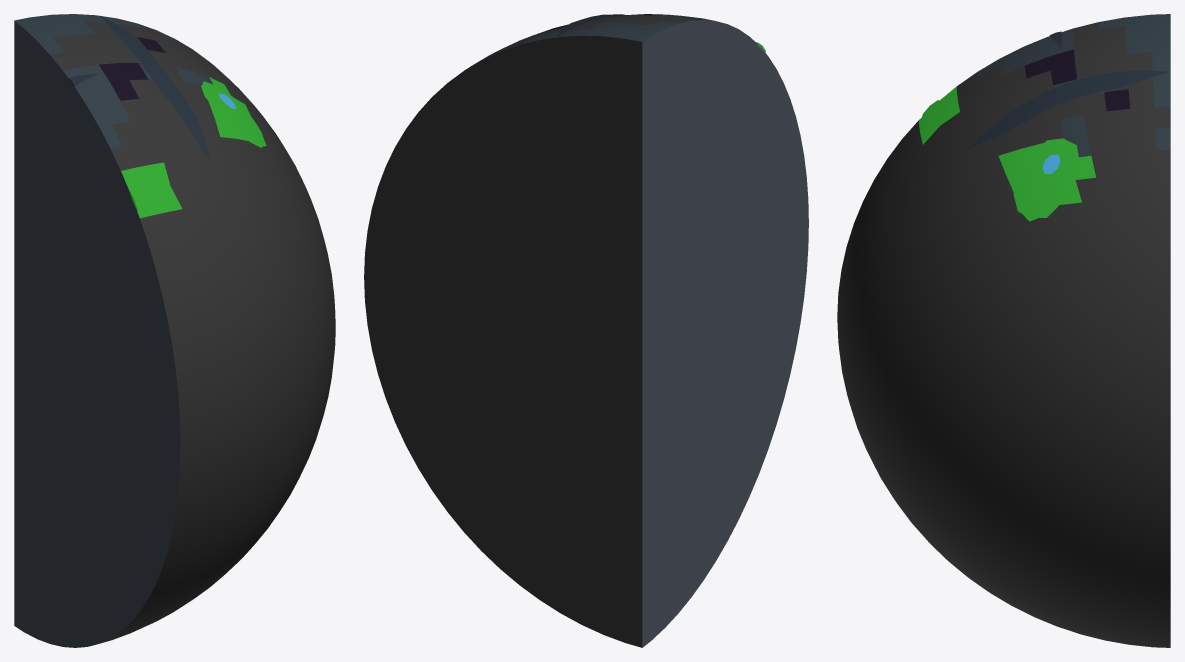
The model's file is newshu-131.glb.
The picture shows the model from 3 angles, left to right: view 1: azimuth 30°, elevation 25°; view 2: azimuth 150°, elevation 25°; view 3: azimuth 270°, elevation 25°; orthographic projection.
Parts seen in each view (by area): view 1: newshu-131; view 2: newshu-131; view 3: newshu-131.
Part boxes in pixels (box(x1,y1,x2,y2)): newshu-131: box(14, 14, 335, 647); newshu-131: box(364, 14, 808, 647); newshu-131: box(837, 14, 1170, 647).
Bounding box in the file's own units: 1.84 × 3.83 × 1.91.
